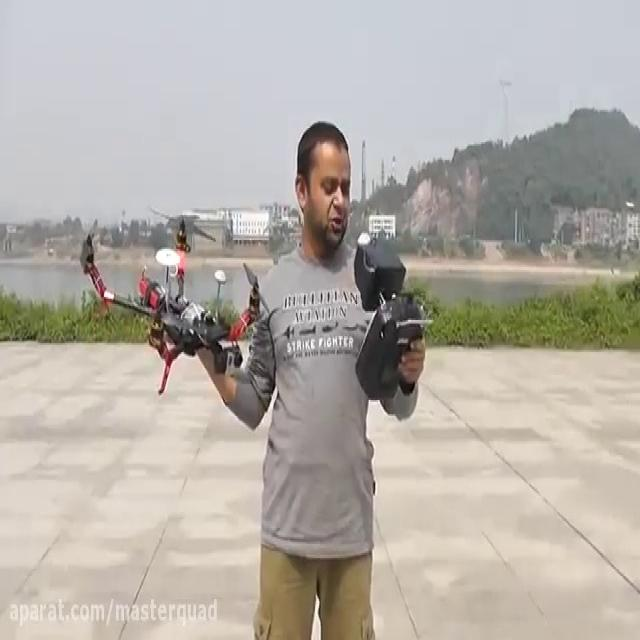drone: (75, 208, 271, 398)
